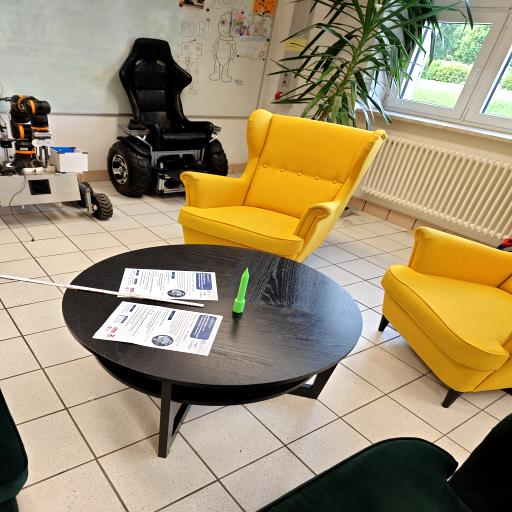Probe-Detection: (232, 268, 249, 312)
